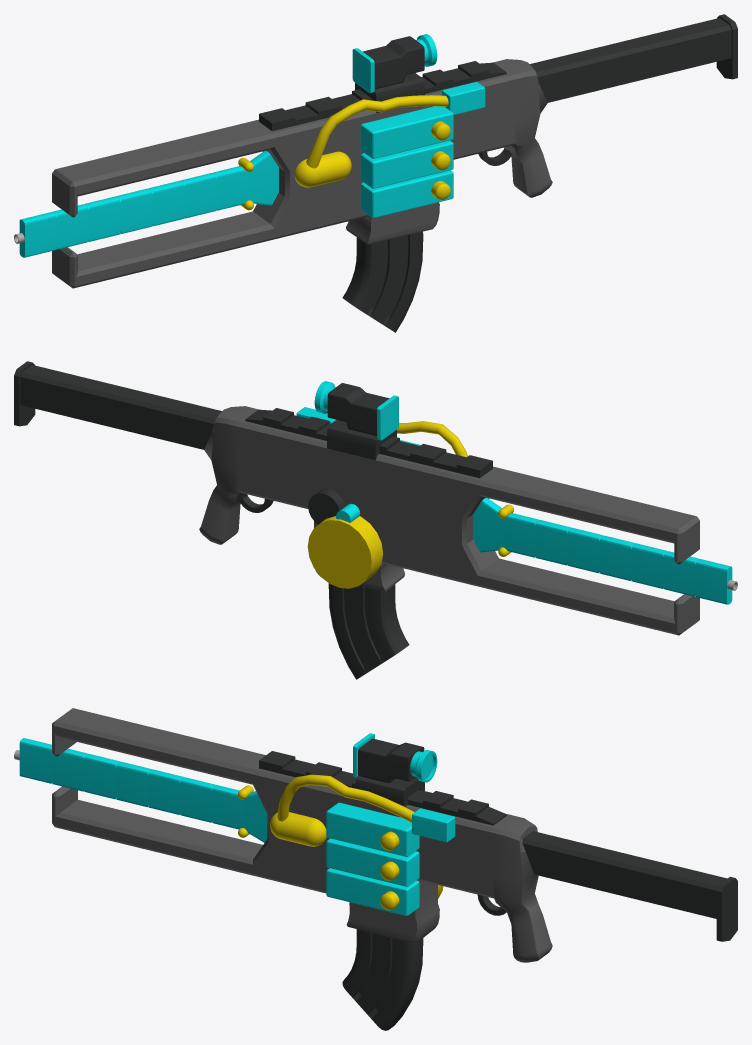
The model's file is weapon_es9Plasma_model.fbx.
The picture shows the model from 3 angles, top to bottom: view 1: azimuth 30°, elevation 25°; view 2: azimuth 150°, elevation 25°; view 3: azimuth 330°, elevation 25°; orthographic projection.
Parts seen in each view (by area): view 1: ES_9_Plasma; view 2: ES_9_Plasma; view 3: ES_9_Plasma.
Boxes of the visible parts, x1,y1,x2,y2 form: ES_9_Plasma: [14, 14, 737, 332]; ES_9_Plasma: [14, 361, 737, 679]; ES_9_Plasma: [14, 708, 737, 1030].
Bounding box in the file's own units: 75.14 × 28.69 × 9.45.
